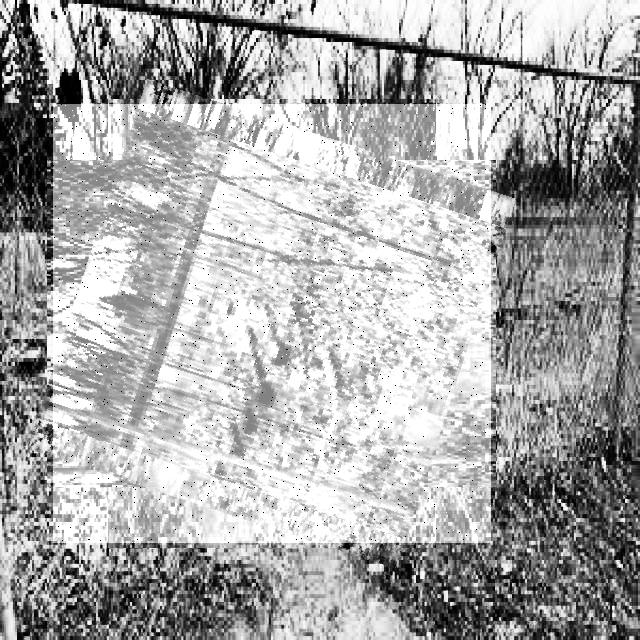anomaly-fence: (53, 104, 491, 543)
